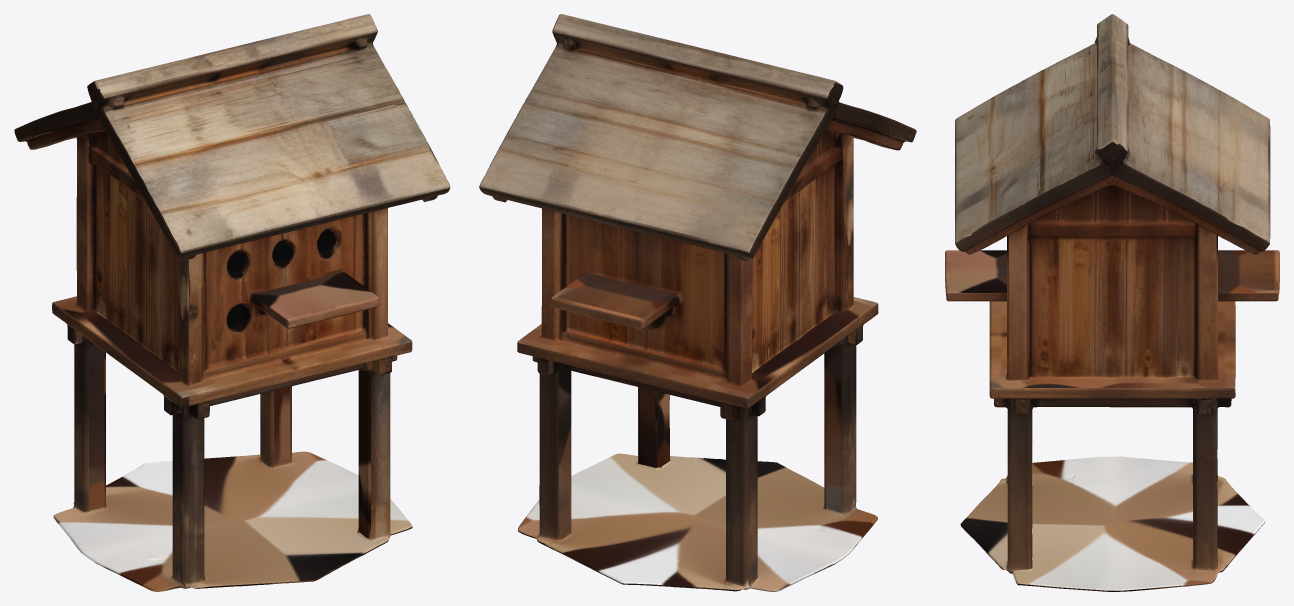
Rendered from traveler_env_coast_autumn_yotomo_pigeon_house_00001_.glb.
3 renders of one model, left to right at view 1: azimuth 30°, elevation 25°; view 2: azimuth 150°, elevation 25°; view 3: azimuth 270°, elevation 25°, orthographic. The views are drawn at different scales.
Parts seen in each view (by area): view 1: temp_mesh.ply; view 2: temp_mesh.ply; view 3: temp_mesh.ply.
Part boxes in pixels (x1,y1,x2,y2): temp_mesh.ply: (14, 14, 450, 591); temp_mesh.ply: (479, 14, 916, 591); temp_mesh.ply: (945, 14, 1279, 591).
Size of the model in its own units: 1.26 by 1.97 by 1.33.
1 material, 1 textured.
